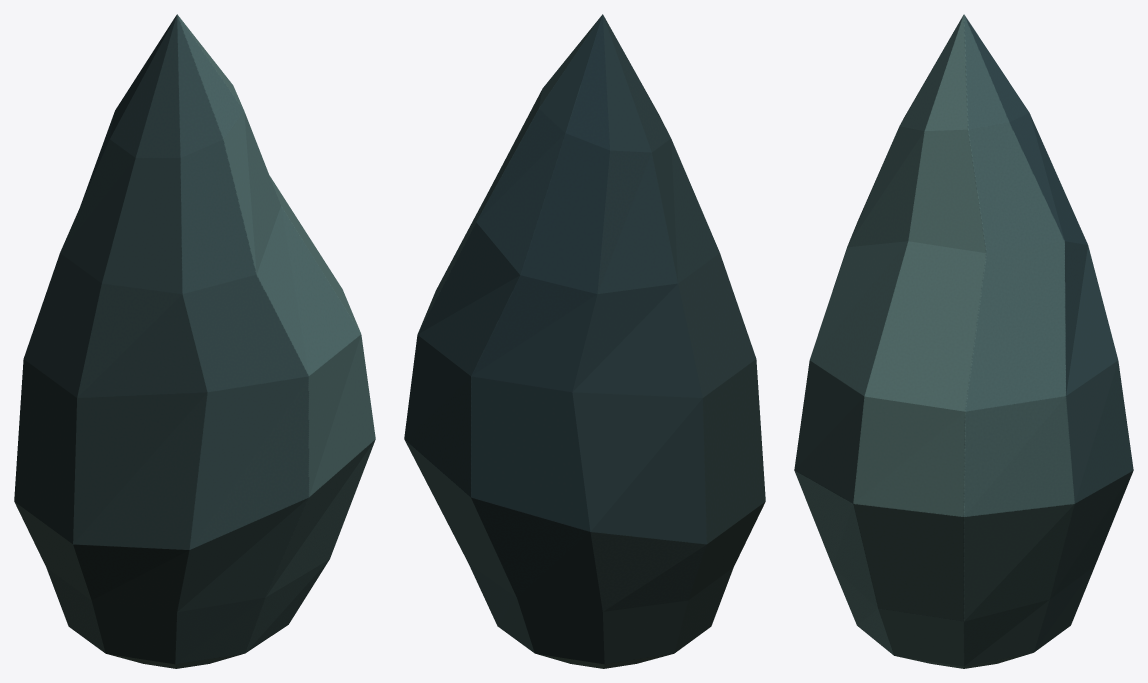
Rendered from Cepha2.obj.
3 renders of one model, left to right at view 1: azimuth 30°, elevation 25°; view 2: azimuth 150°, elevation 25°; view 3: azimuth 270°, elevation 25°, orthographic.
Visible parts, largest first — view 1: Cepha2; view 2: Cepha2; view 3: Cepha2.
Part boxes in pixels (x1,y1,x2,y2): Cepha2: (14,14,375,668); Cepha2: (404,14,765,668); Cepha2: (794,14,1133,668).
Size of the model in its own units: 5.46 by 10.48 by 5.09.
Materials: 1 (1 with a texture image).
